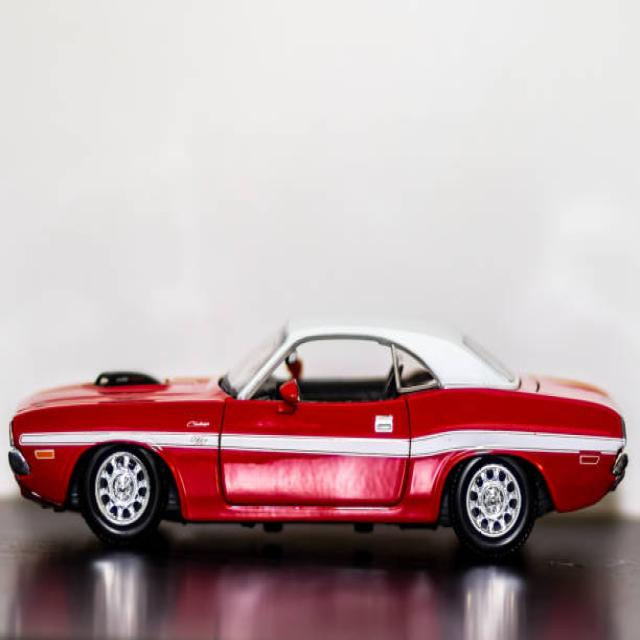Car: (8, 321, 628, 559)
